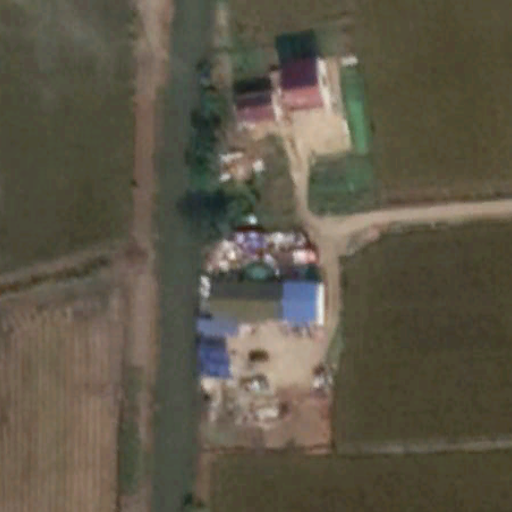msw: (202, 234, 318, 280)
